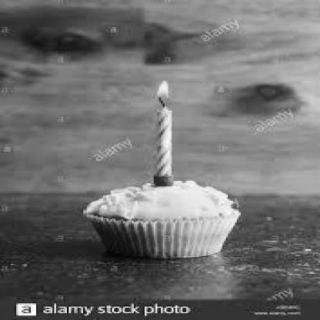Fire: (137, 79, 185, 113)
